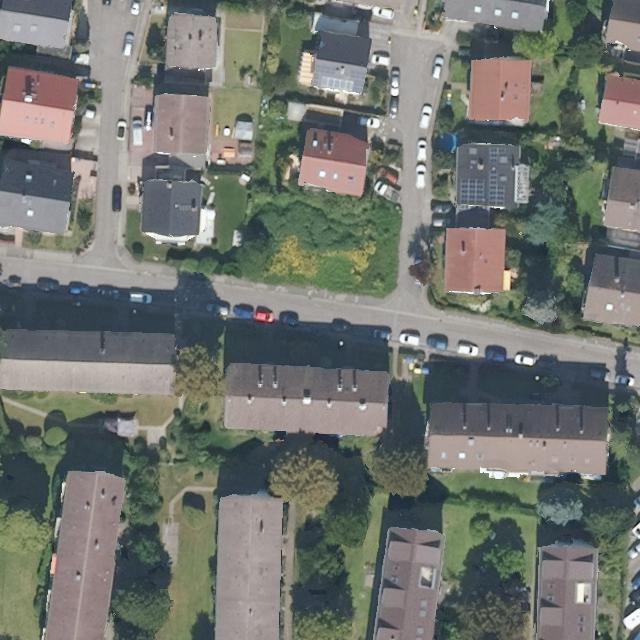PV: (457, 176, 487, 206), (488, 166, 508, 209), (488, 144, 509, 165)
